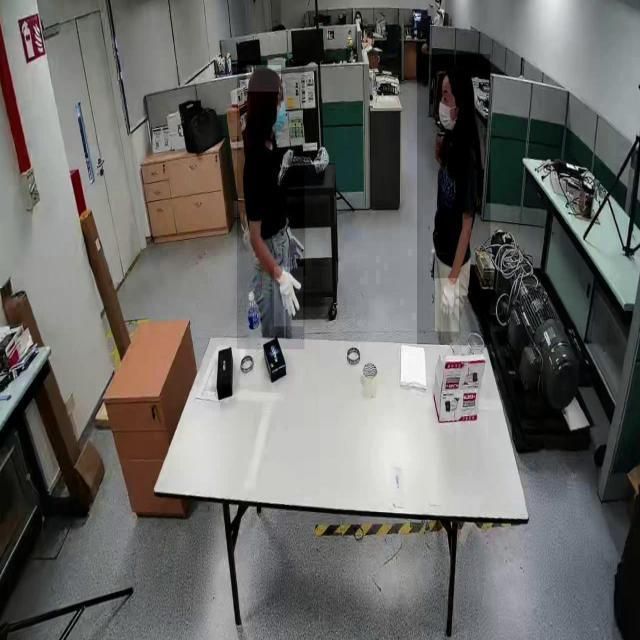gloves: (274, 266, 304, 328), (434, 278, 460, 332), (288, 228, 307, 276)
